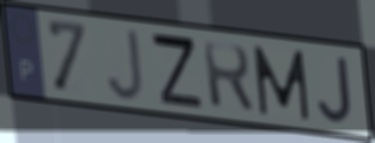7: (44, 16, 92, 95)
J: (104, 25, 146, 103), (315, 54, 355, 126)
M: (250, 42, 313, 123)
R: (200, 39, 258, 116)
Z: (147, 29, 206, 111)
